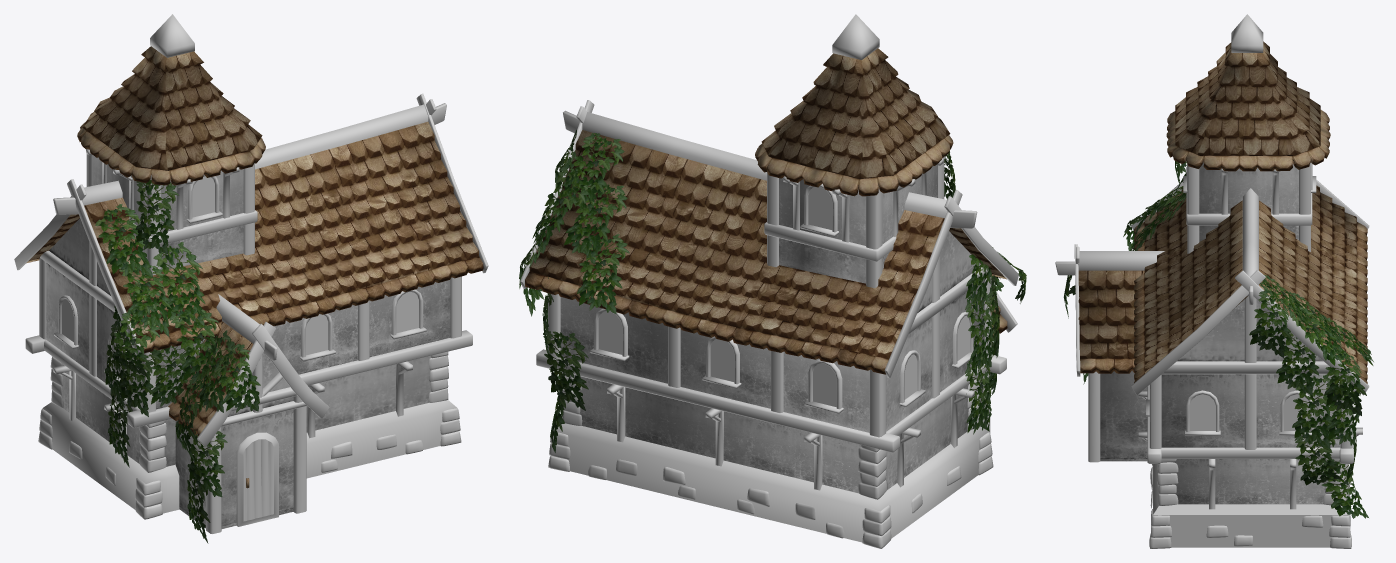
Rendered from Medieva_fantasy_house.obj.
3 views of the same model, side by side, from view 1: azimuth 30°, elevation 25°; view 2: azimuth 150°, elevation 25°; view 3: azimuth 270°, elevation 25° (orthographic). The views are drawn at different scales.
Parts seen in each view (by area): view 1: roof, wood, wall, plants, brick, glass; view 2: roof, wall, wood, brick, plants, glass; view 3: roof, wall, wood, plants, brick, glass.
Part boxes in pixels (x1,y1,x2,y2): roof: [26, 46, 483, 488]; wood: [14, 14, 488, 533]; wall: [46, 155, 450, 528]; plants: [95, 179, 260, 543]; brick: [38, 351, 461, 519]; glass: [62, 176, 418, 373]; roof: [525, 48, 1007, 374]; wall: [560, 165, 984, 493]; wood: [520, 14, 1018, 490]; brick: [548, 372, 993, 548]; plants: [519, 129, 1026, 452]; glass: [598, 186, 969, 406]; roof: [1078, 41, 1367, 383]; wall: [1100, 162, 1340, 504]; wood: [1055, 14, 1369, 509]; plants: [1063, 161, 1373, 518]; brick: [1149, 459, 1351, 548]; glass: [1189, 394, 1310, 430].
Size of the model in its own units: 1504 by 1691 by 1143.
